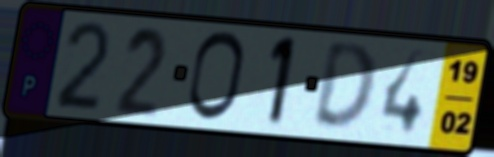1: (265, 35, 302, 131)
2: (110, 24, 172, 120), (53, 18, 114, 113)
4: (378, 47, 428, 139)
D: (308, 40, 378, 136)
O: (184, 28, 248, 125)
